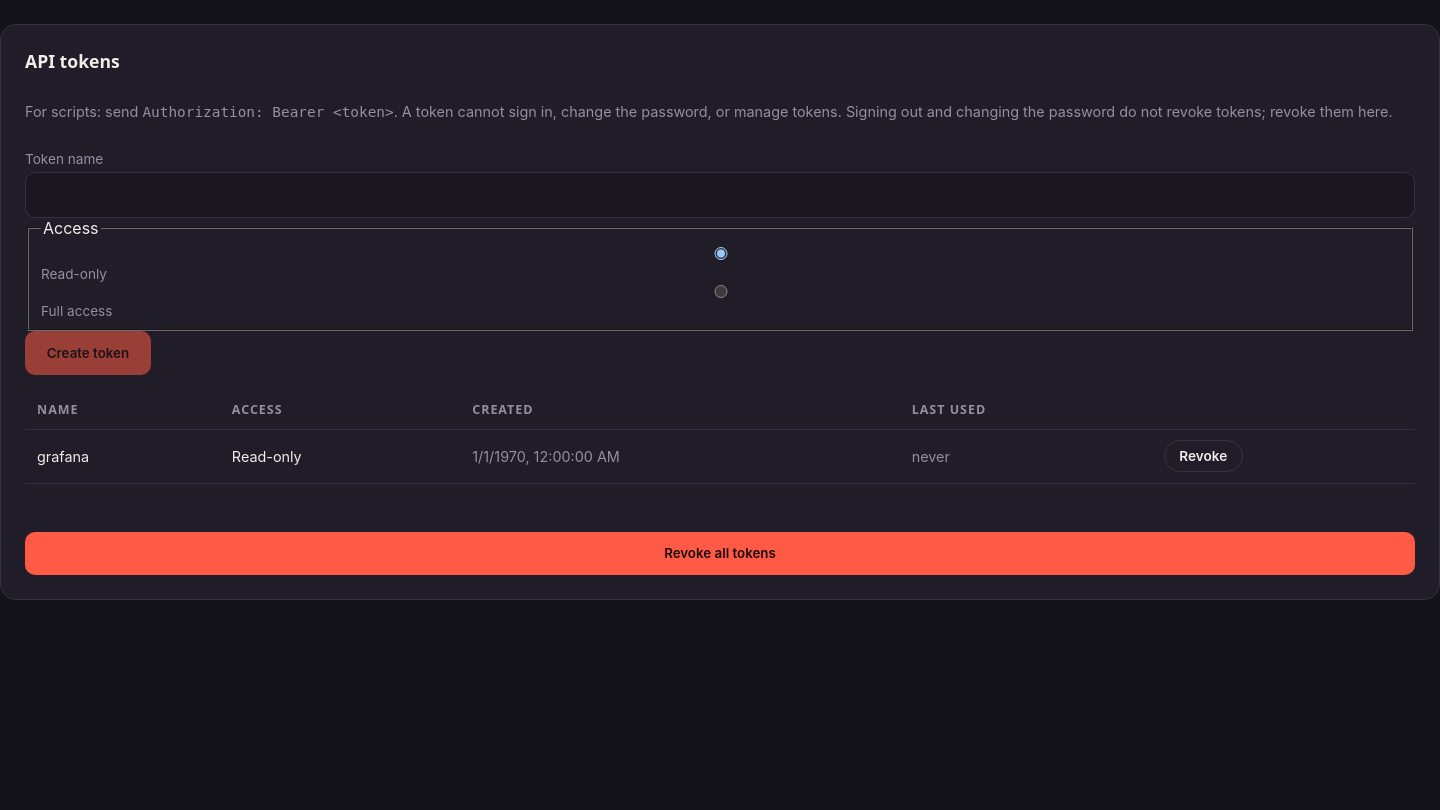
Test: ApiTokens › creates a token and shows it once, never from the list
Expected: the text "grafana" is shown, top-left (25, 429), bottom-right (220, 483)
Expected: the radio button labelled "Read-only" is checked, top-left (46, 247), bottom-right (1396, 260)
In the field labelled "Token name": (720, 195) top-left (25, 172), bottom-right (1415, 218), type "backup script"
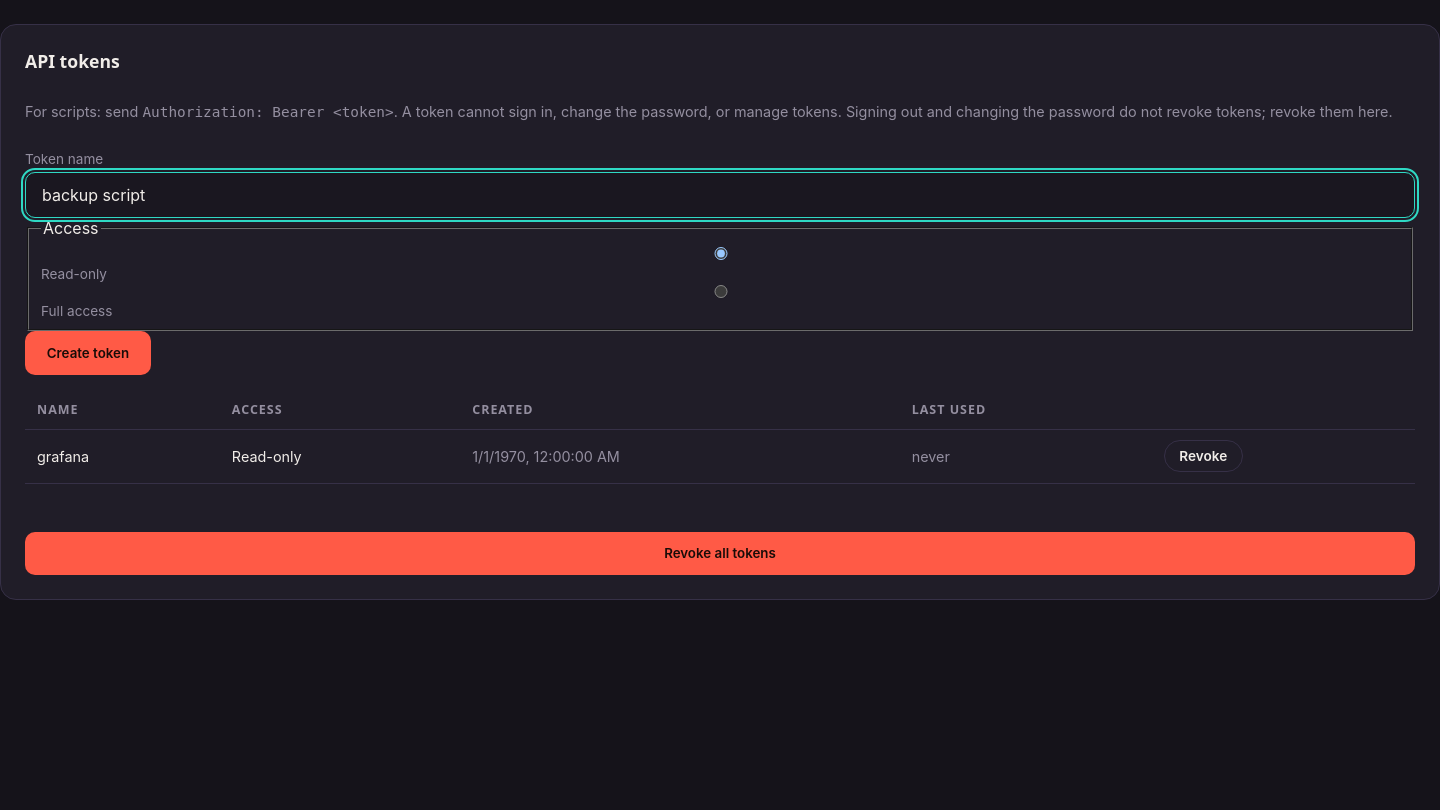
Click the radio button labelled "Full access": (721, 291) top-left (46, 285), bottom-right (1396, 298)
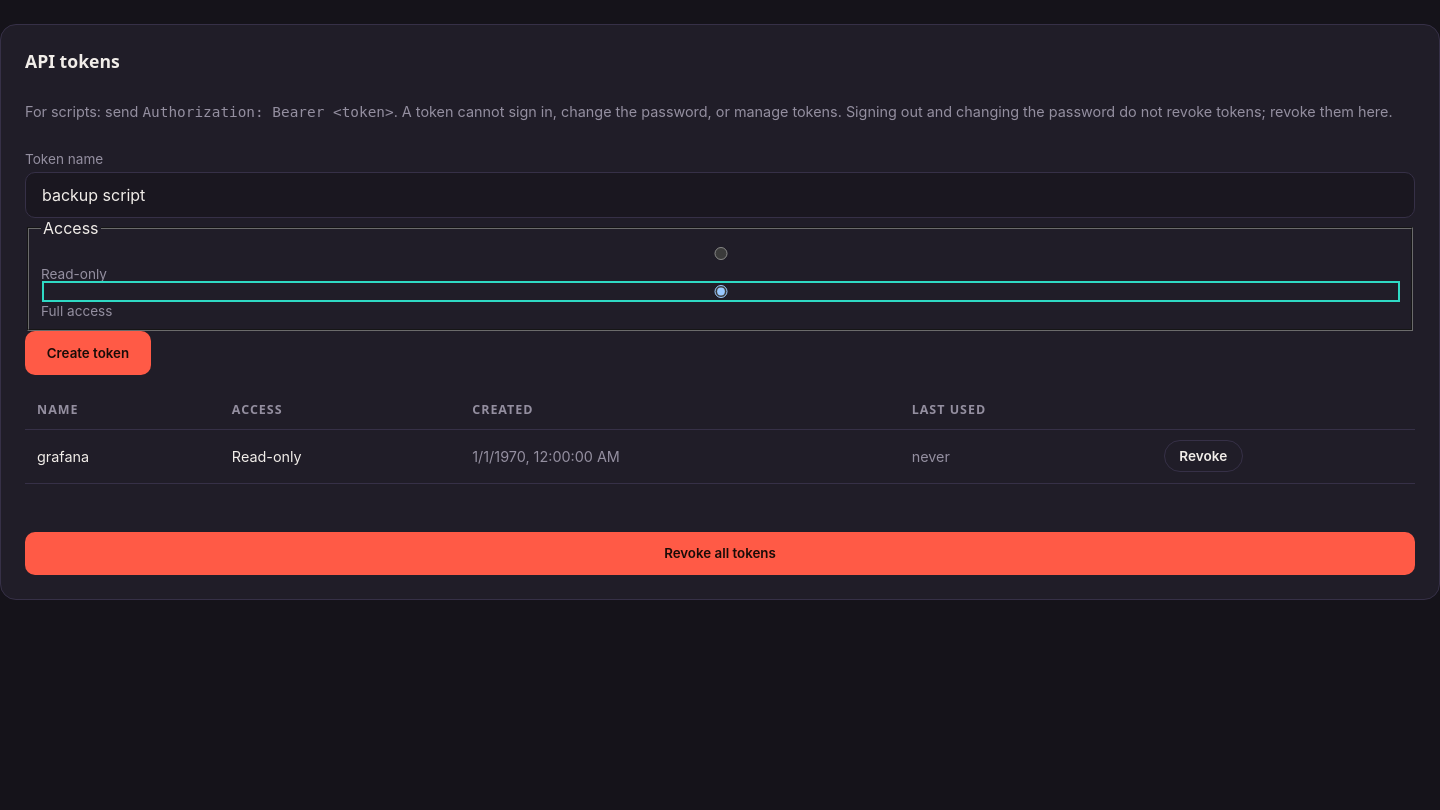
Click the button "Create token": (88, 353) top-left (25, 331), bottom-right (151, 375)
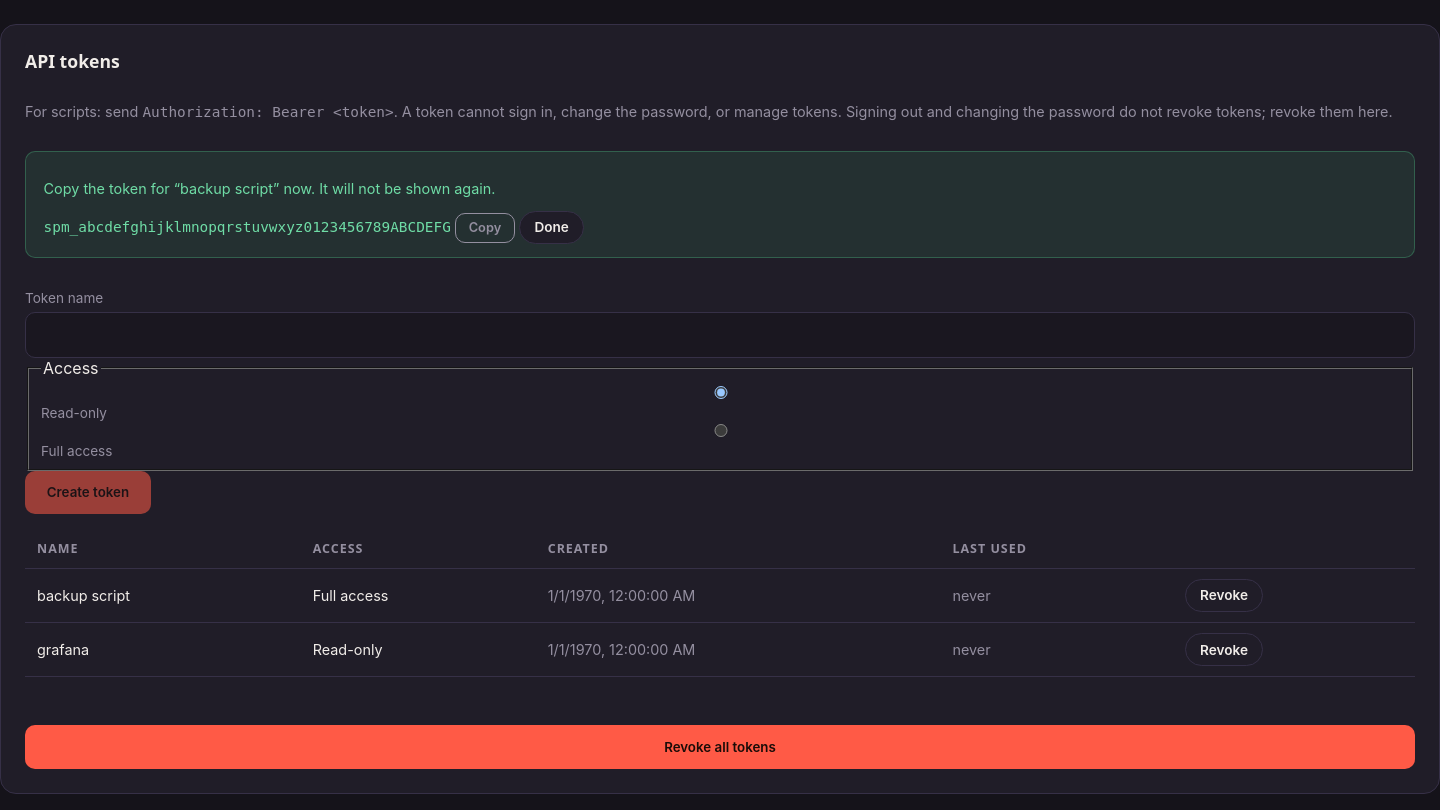
Result: the text "spm_abcdefghijklmnopqrstuvwxyz0123456789ABCDEFG" is shown at top-left (44, 219), bottom-right (451, 235)
Result: the text "will not be shown again" is shown at top-left (273, 180), bottom-right (495, 197)
Result: the button "Copy" is shown at top-left (455, 213), bottom-right (515, 243)
Click the button "Done": (552, 227) top-left (519, 211), bottom-right (584, 244)
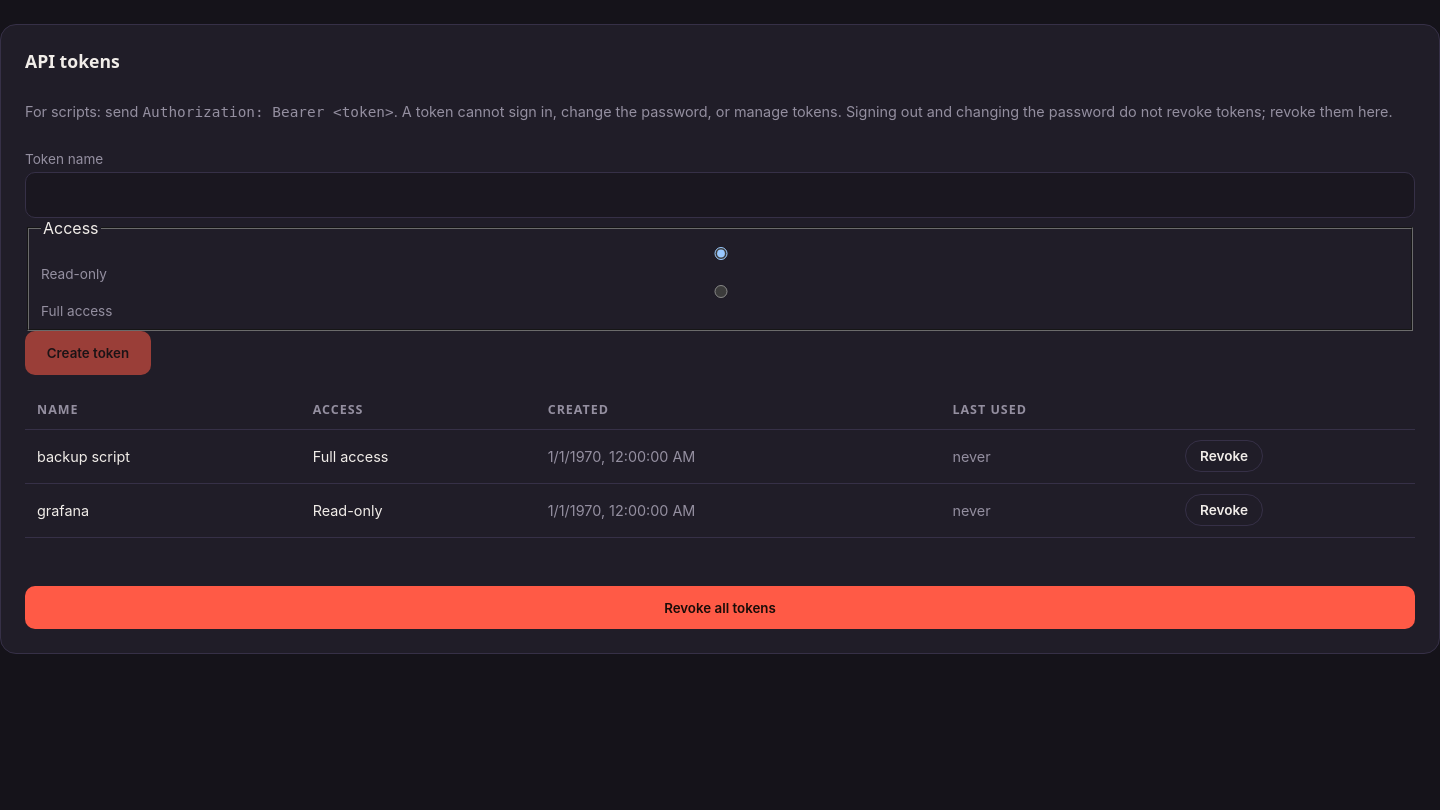
Result: the text "spm_abcdefghijklmnopqrstuvwxyz0123456789ABCDEFG" is gone
